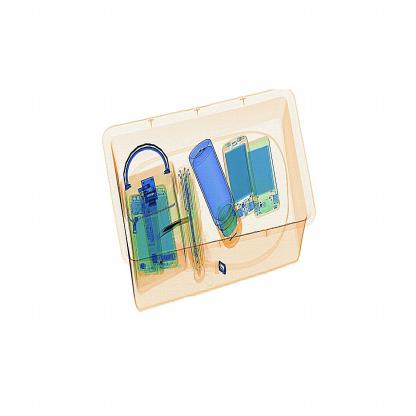wrench: (154, 212, 203, 247)
